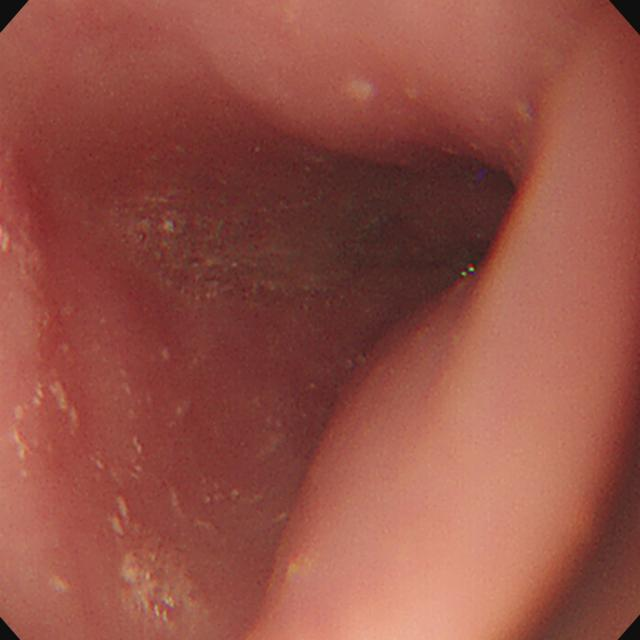J: (14, 379, 82, 426), (107, 493, 132, 538), (14, 428, 34, 481), (346, 78, 380, 105)
T: (113, 191, 350, 301), (119, 541, 211, 640)
